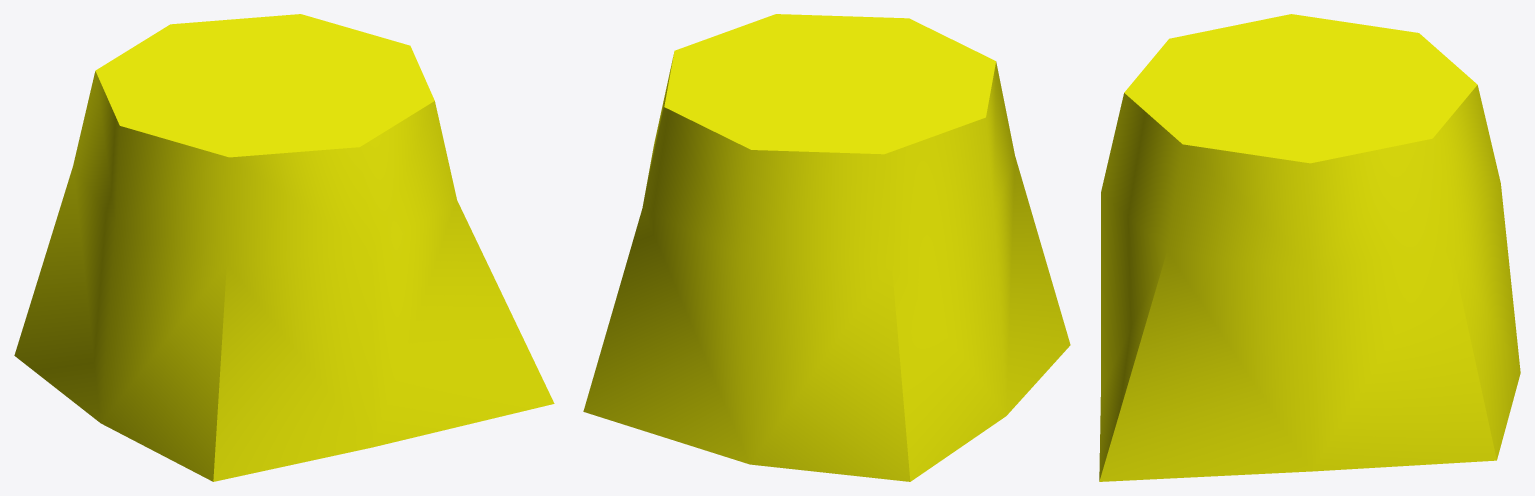
Rendered from forest_stump_2.glb.
3 renders of one model, left to right at view 1: azimuth 30°, elevation 25°; view 2: azimuth 150°, elevation 25°; view 3: azimuth 270°, elevation 25°, orthographic. The views are drawn at different scales.
Visible parts, largest first — view 1: Cylinder.001; view 2: Cylinder.001; view 3: Cylinder.001.
Boxes of the visible parts, x1,y1,x2,y2 form: Cylinder.001: (14, 14, 554, 481); Cylinder.001: (583, 14, 1070, 481); Cylinder.001: (1099, 14, 1520, 481).
Size of the model in its own units: 0.4229 by 0.3278 by 0.4196.
1 material, 1 textured.
